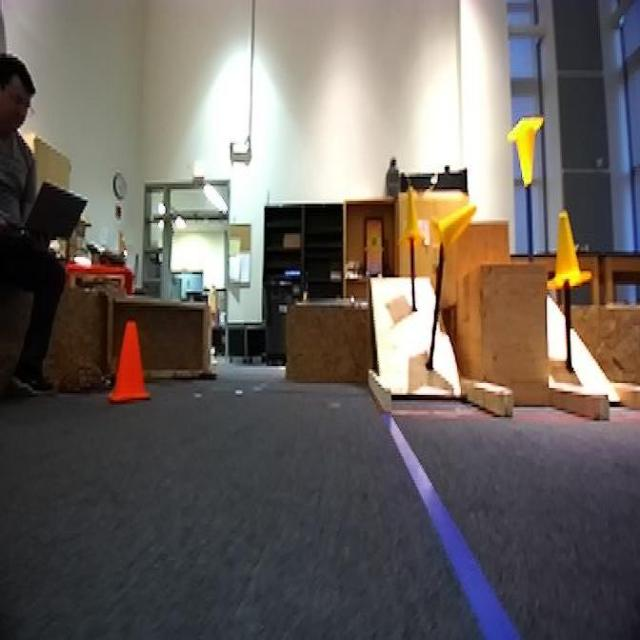frc_cone: (546, 213, 590, 293), (508, 114, 546, 186), (432, 204, 477, 260), (402, 189, 429, 254)
